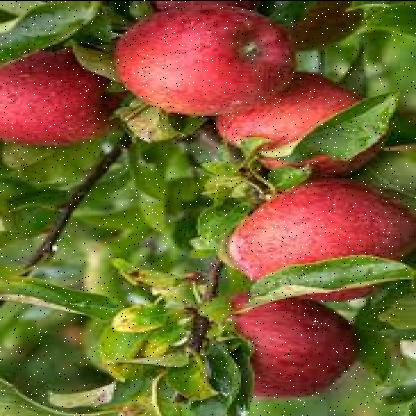apple: (228, 178, 412, 300), (113, 9, 288, 115), (204, 298, 364, 404), (211, 77, 373, 180), (5, 52, 109, 148)
